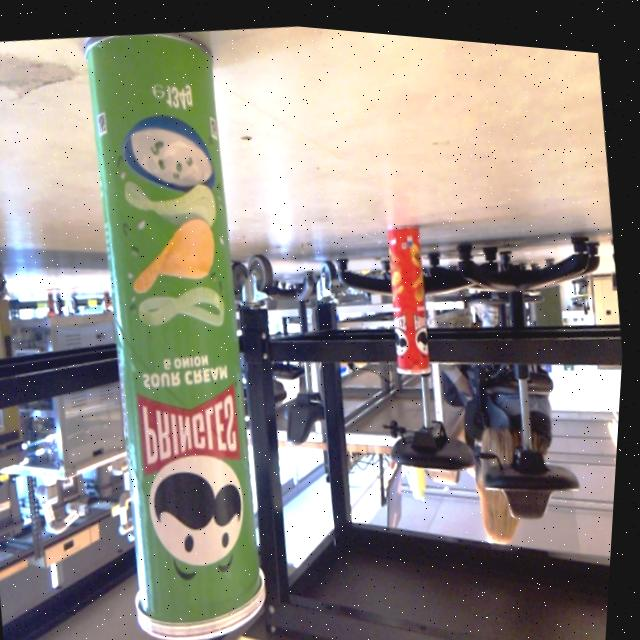greenpringles: (48, 13, 322, 640)
redpringles: (368, 197, 465, 381)
